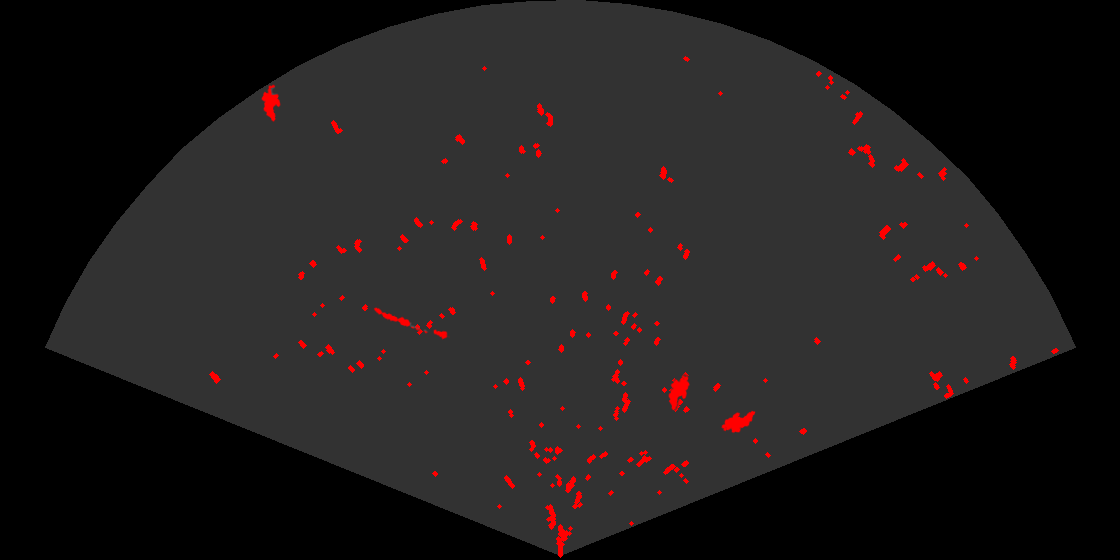AUV: (720, 409, 757, 435), (667, 373, 691, 412), (260, 83, 282, 124)
chain: (372, 306, 450, 341)
